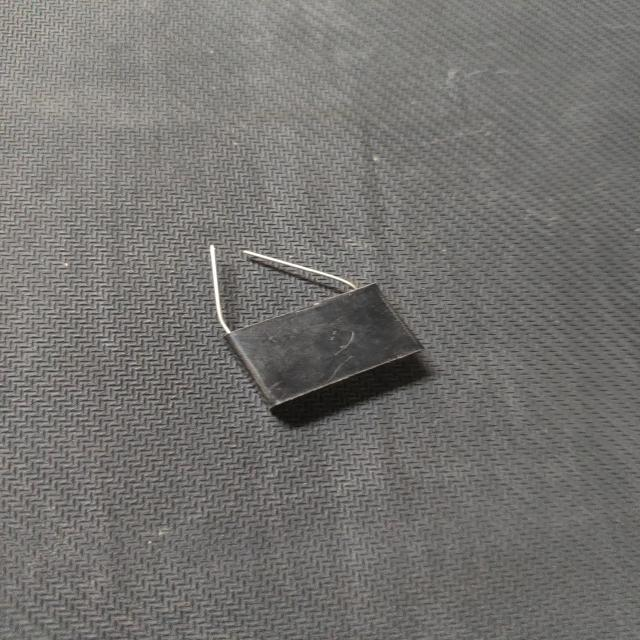capacitor: (210, 245, 429, 425)
